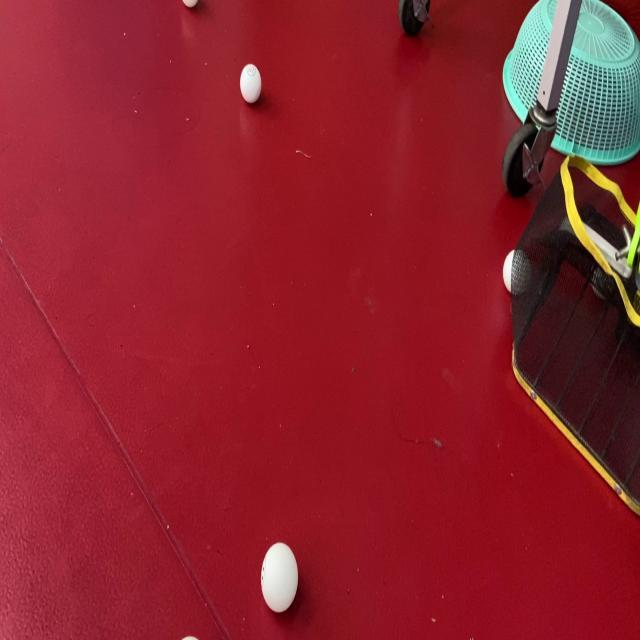ping-pong-ball: (260, 540, 299, 614), (502, 246, 532, 296), (239, 61, 263, 105)
